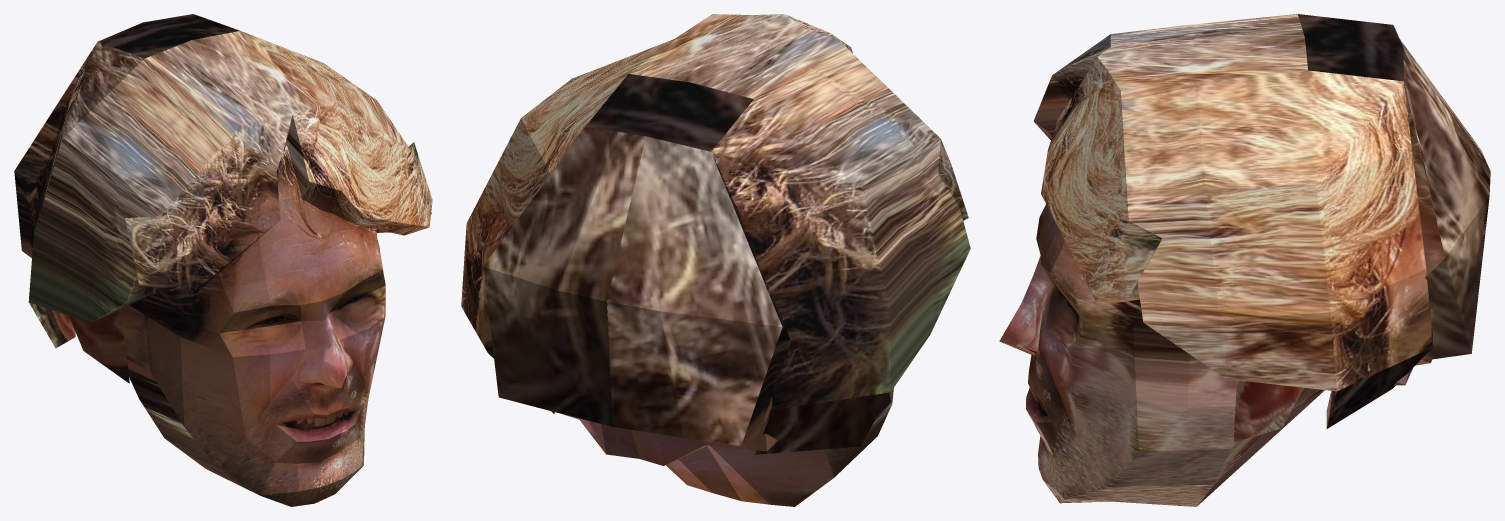
The model's file is julian.glb.
3 views of the same model, side by side, from view 1: azimuth 30°, elevation 25°; view 2: azimuth 150°, elevation 25°; view 3: azimuth 270°, elevation 25° (orthographic). The views are drawn at different scales.
Visible parts, largest first — view 1: Julian.001; view 2: Julian.001; view 3: Julian.001.
Part boxes in pixels (x1,y1,x2,y2): Julian.001: (14,14,432,506); Julian.001: (461,14,970,506); Julian.001: (999,14,1490,506).
Bounding box in the file's own units: 1.97 × 2.13 × 2.12.
Materials: 1 (1 with a texture image).
